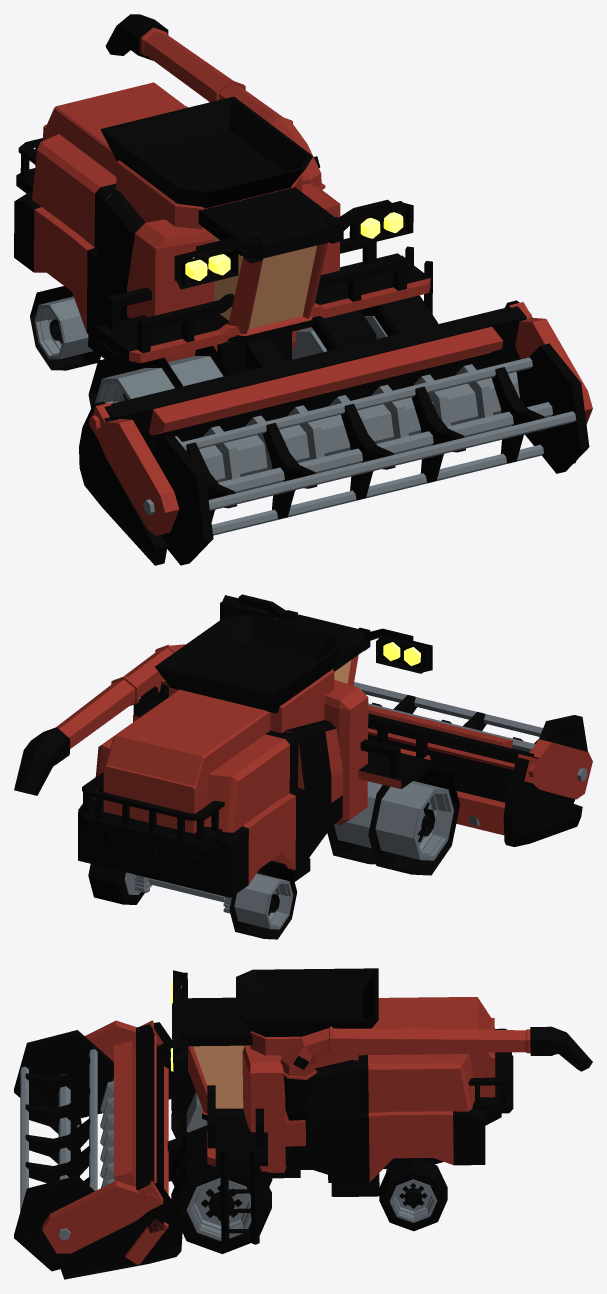
Rendered from combine_harvester_b.glb.
The picture shows the model from 3 angles, top to bottom: view 1: azimuth 30°, elevation 25°; view 2: azimuth 150°, elevation 25°; view 3: azimuth 270°, elevation 25°; orthographic projection. The views are drawn at different scales.
Parts seen in each view (by area): view 1: Cube.026_Black.001_0, Cube.026_Red.001_0, Cube.026_Metal.001_0, Cube.026_Window.001_0, Cube.026_Material.001_0; view 2: Cube.026_Black.001_0, Cube.026_Red.001_0, Cube.026_Metal.001_0, Cube.026_Material.001_0; view 3: Cube.026_Black.001_0, Cube.026_Red.001_0, Cube.026_Metal.001_0, Cube.026_Window.001_0.
Part boxes in pixels (box(x1,y1,x2,y2)): Cube.026_Black.001_0: box(14, 14, 589, 565); Cube.026_Red.001_0: box(32, 27, 592, 535); Cube.026_Metal.001_0: box(34, 296, 576, 535); Cube.026_Window.001_0: box(214, 236, 316, 329); Cube.026_Material.001_0: box(185, 212, 403, 280); Cube.026_Black.001_0: box(14, 594, 587, 939); Cube.026_Red.001_0: box(56, 644, 592, 884); Cube.026_Metal.001_0: box(124, 682, 587, 929); Cube.026_Material.001_0: box(383, 642, 420, 665); Cube.026_Black.001_0: box(14, 968, 592, 1279); Cube.026_Red.001_0: box(42, 997, 530, 1264); Cube.026_Metal.001_0: box(20, 1049, 437, 1240); Cube.026_Window.001_0: box(193, 1045, 250, 1108).
Bounding box in the file's own units: 507 × 286 × 735.
